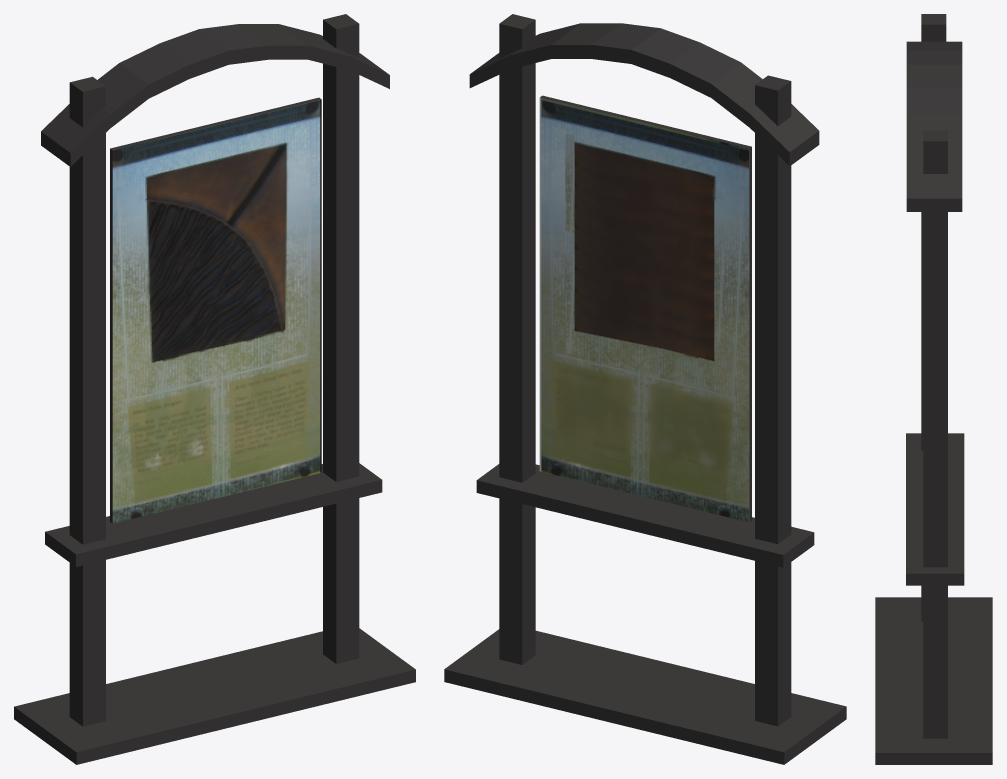
File: creation.obj
The picture shows the model from 3 angles, left to right: view 1: azimuth 30°, elevation 25°; view 2: azimuth 150°, elevation 25°; view 3: azimuth 270°, elevation 25°; orthographic projection. The views are drawn at different scales.
Parts seen in each view (by area): view 1: Cube.002_Cube.003; view 2: Cube.002_Cube.003; view 3: Cube.002_Cube.003.
Boxes of the visible parts, box(x1,y1,x2,y2) form: Cube.002_Cube.003: box(14, 14, 415, 764); Cube.002_Cube.003: box(444, 14, 846, 764); Cube.002_Cube.003: box(875, 14, 992, 764).
Bounding box in the file's own units: 5.95 × 11.07 × 1.9.
3 materials, 3 textured.
